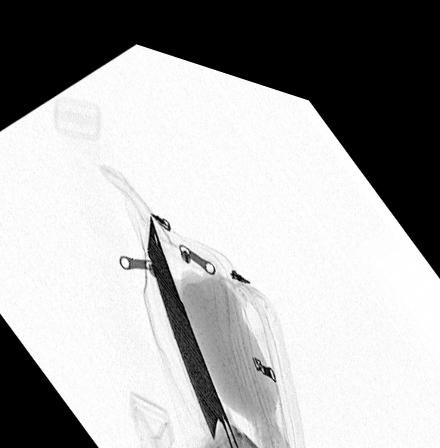Knife: (146, 204, 251, 448)
